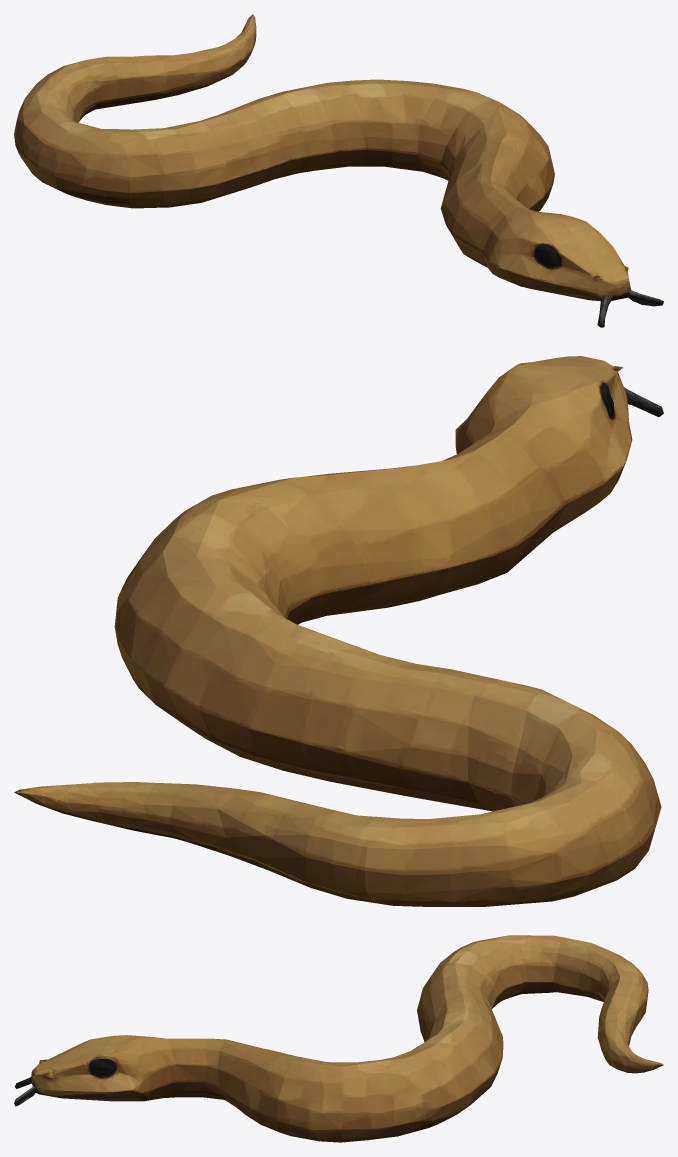
Rendered from snake.glb.
3 views of the same model, one above another, from view 1: azimuth 30°, elevation 25°; view 2: azimuth 150°, elevation 25°; view 3: azimuth 270°, elevation 25° (orthographic). The views are drawn at different scales.
Parts seen in each view (by area): view 1: world; view 2: world; view 3: world.
Boxes of the visible parts, x1,y1,x2,y2 form: world: (14,14,663,327); world: (14,356,663,906); world: (14,935,663,1142).
Size of the model in its own units: 0.6173 by 0.1209 by 0.9966.
1 material, 1 textured.
